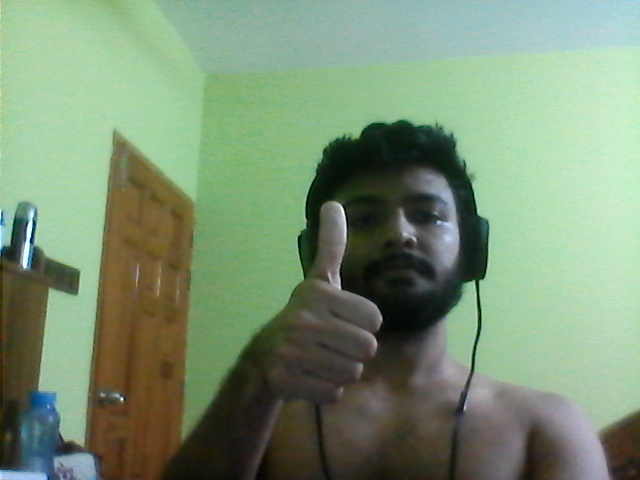Yes: (234, 199, 390, 408)
